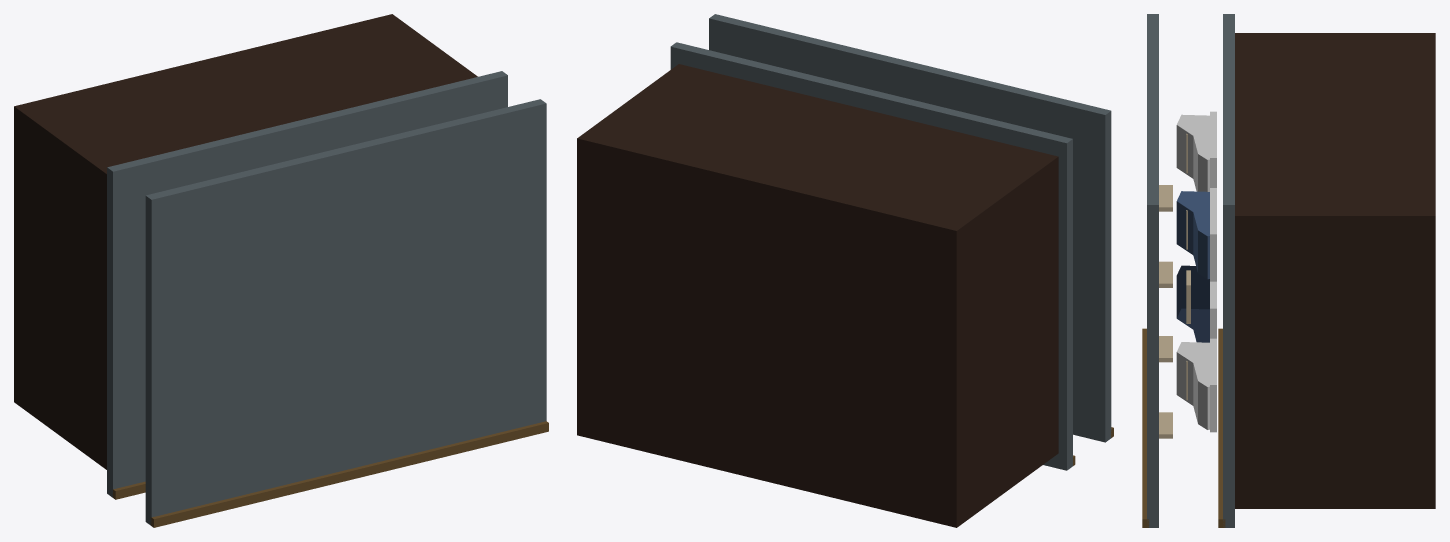
The model's file is SM_BSW_Department_ShoeDisplay_Short_A.obj.
3 renders of one model, left to right at view 1: azimuth 30°, elevation 25°; view 2: azimuth 150°, elevation 25°; view 3: azimuth 270°, elevation 25°, orthographic.
Visible parts, largest first — view 1: SM_BSW_Department_ShoeDisplay_Short_A; view 2: SM_BSW_Department_ShoeDisplay_Short_A; view 3: SM_BSW_Department_ShoeDisplay_Short_A.
Part boxes in pixels (left/top/right/bottom): SM_BSW_Department_ShoeDisplay_Short_A: left=14, top=14, right=548, bottom=527; SM_BSW_Department_ShoeDisplay_Short_A: left=577, top=14, right=1113, bottom=527; SM_BSW_Department_ShoeDisplay_Short_A: left=1142, top=14, right=1435, bottom=527.
Size of the model in its own units: 190 by 150 by 124.
